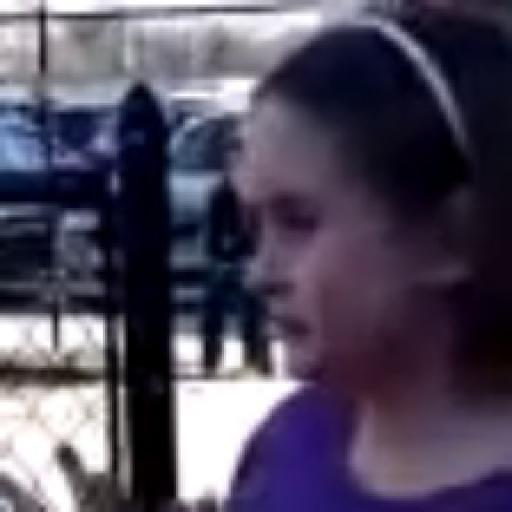Autism: (209, 57, 512, 412)
